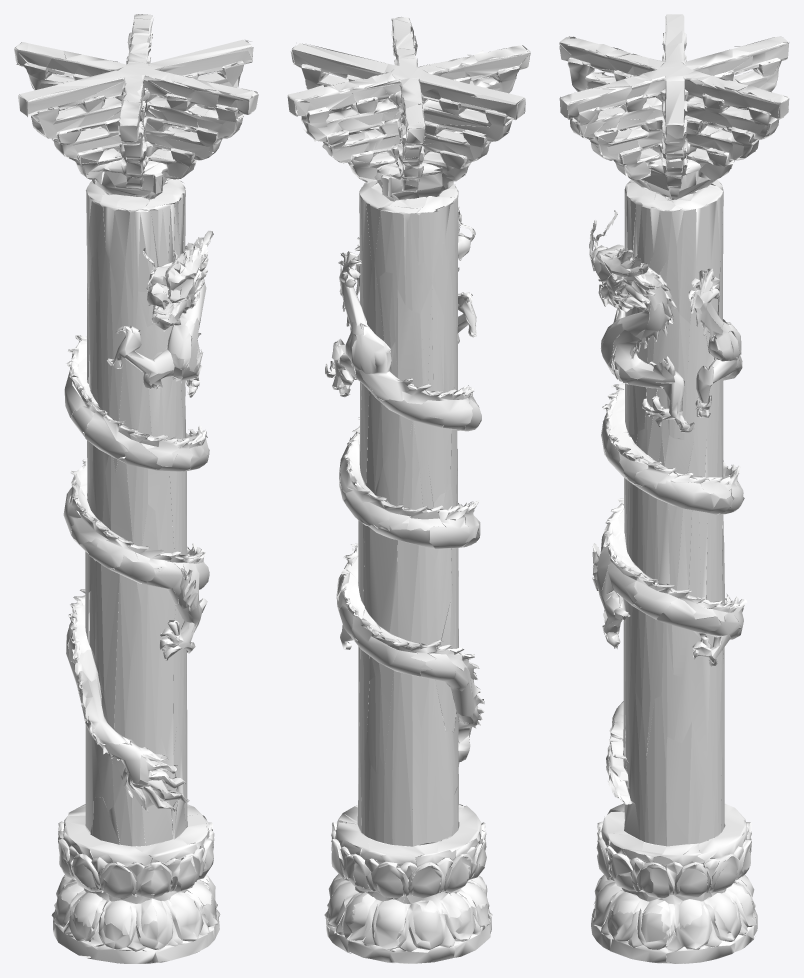
Rendered from dragon_pillar_lod1.glb.
3 views of the same model, side by side, from view 1: azimuth 30°, elevation 25°; view 2: azimuth 150°, elevation 25°; view 3: azimuth 270°, elevation 25° (orthographic).
Visible parts, largest first — view 1: Mesh_0; view 2: Mesh_0; view 3: Mesh_0.
Part boxes in pixels (bbox=[...]): Mesh_0: bbox=[14, 14, 258, 963]; Mesh_0: bbox=[287, 16, 530, 963]; Mesh_0: bbox=[559, 14, 789, 963].
Size of the model in its own units: 1.8 by 6.52 by 1.58.
1 material, 1 textured.
